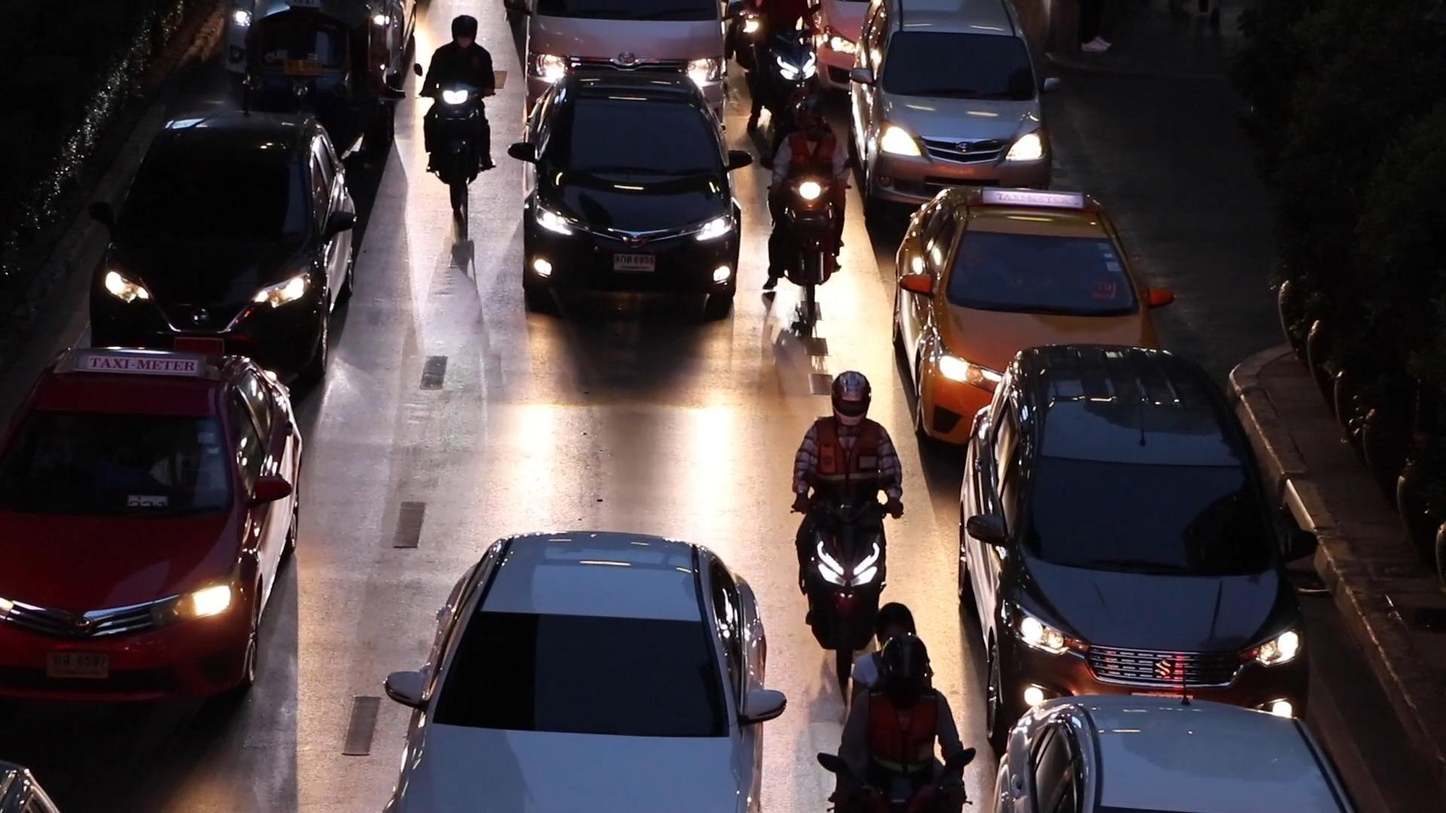driver: (791, 371, 903, 683), (816, 602, 976, 813), (760, 86, 859, 317), (414, 15, 496, 209), (746, 0, 823, 136)
helmet: (877, 634, 933, 713), (829, 370, 872, 429), (795, 94, 829, 143), (452, 15, 478, 51)
no-helmet: (876, 601, 917, 651)
